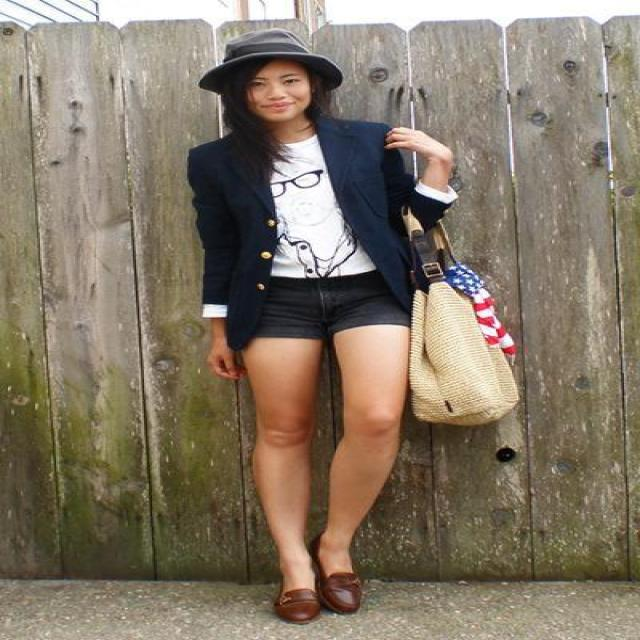bag: (395, 209, 520, 430)
hat: (198, 33, 341, 98)
jacket: (187, 118, 456, 344)
shirt: (270, 141, 374, 276)
shoe: (272, 565, 371, 624)
shorts: (259, 270, 413, 355)
